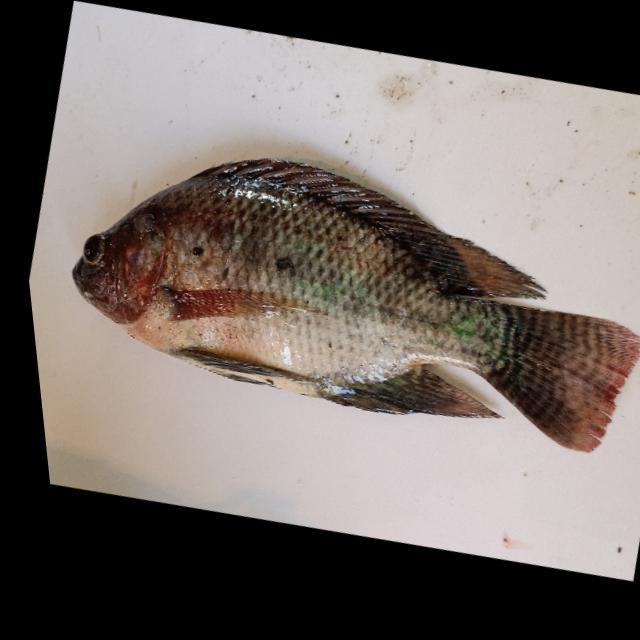Tilapia: (33, 75, 640, 514)
